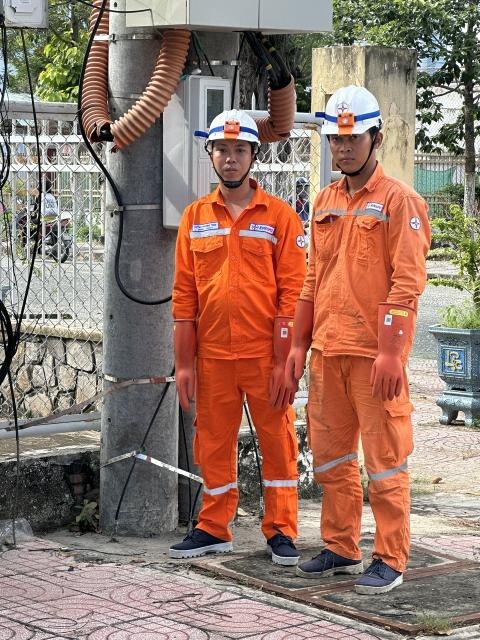gloves: (156, 306, 222, 428), (355, 297, 418, 401), (263, 314, 300, 412), (286, 299, 320, 387)
helmet: (308, 78, 399, 155), (191, 103, 280, 153)
shoes: (162, 518, 240, 572), (288, 533, 356, 589), (248, 515, 306, 578), (354, 540, 415, 597)
